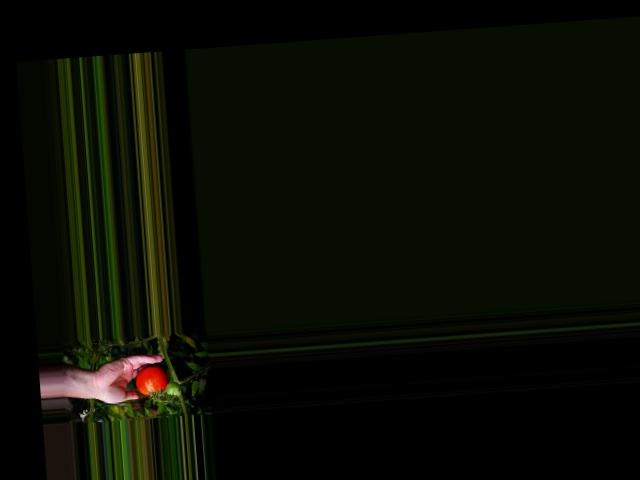tomato: (134, 364, 169, 395)
